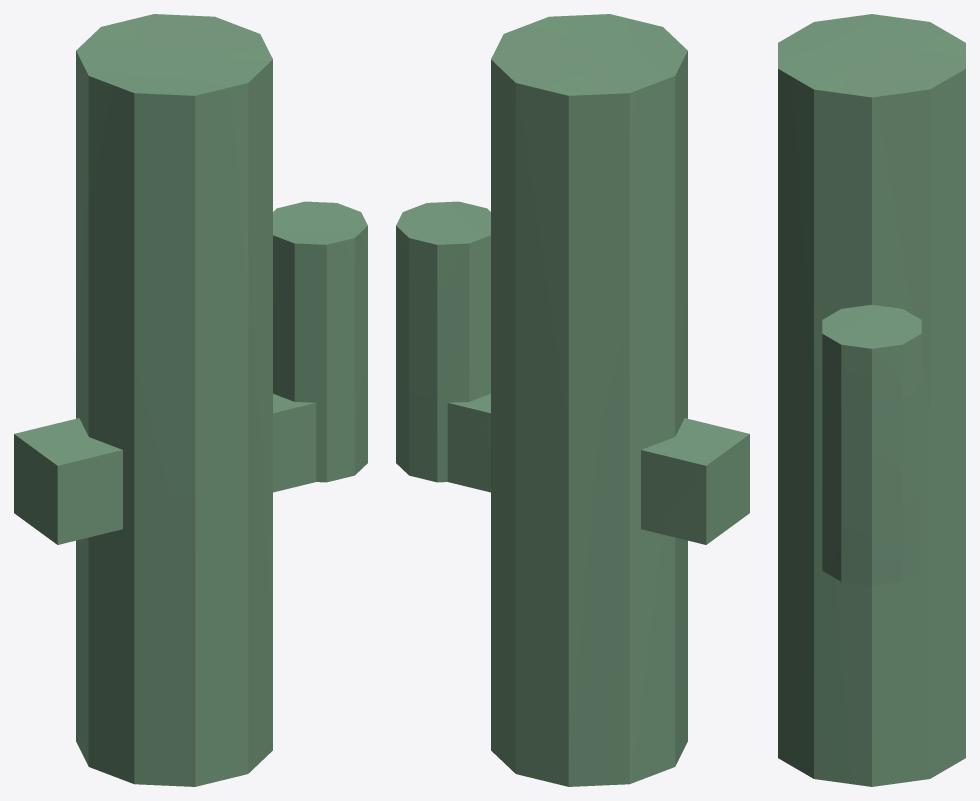
Rendered from cactus-07.glb.
3 views of the same model, side by side, from view 1: azimuth 30°, elevation 25°; view 2: azimuth 150°, elevation 25°; view 3: azimuth 270°, elevation 25° (orthographic).
Visible parts, largest first — view 1: world; view 2: world; view 3: world.
Part boxes in pixels (x1,y1,x2,y2): world: [14, 14, 367, 786]; world: [396, 14, 749, 786]; world: [778, 14, 965, 786].
Bounding box in the file's own units: 0.645 × 1.31 × 0.3234.
